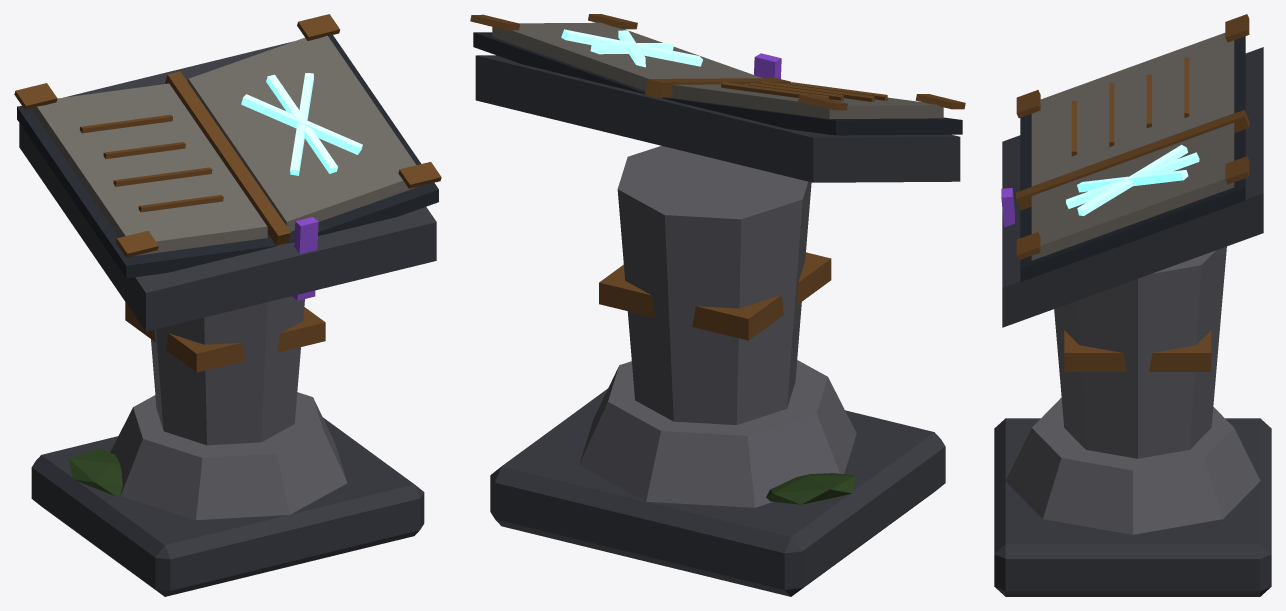
The model's file is Ancient_Tome_Pedestal.glb.
The picture shows the model from 3 angles, left to right: view 1: azimuth 30°, elevation 25°; view 2: azimuth 150°, elevation 25°; view 3: azimuth 270°, elevation 25°; orthographic projection. The views are drawn at different scales.
Parts seen in each view (by area): view 1: Ancient_Tome_Pedestal; view 2: Ancient_Tome_Pedestal; view 3: Ancient_Tome_Pedestal.
Part boxes in pixels (x1,y1,x2,y2): Ancient_Tome_Pedestal: (14, 14, 441, 596); Ancient_Tome_Pedestal: (470, 14, 965, 596); Ancient_Tome_Pedestal: (994, 14, 1271, 596).
Size of the model in its own units: 1.14 by 1.49 by 0.85.
